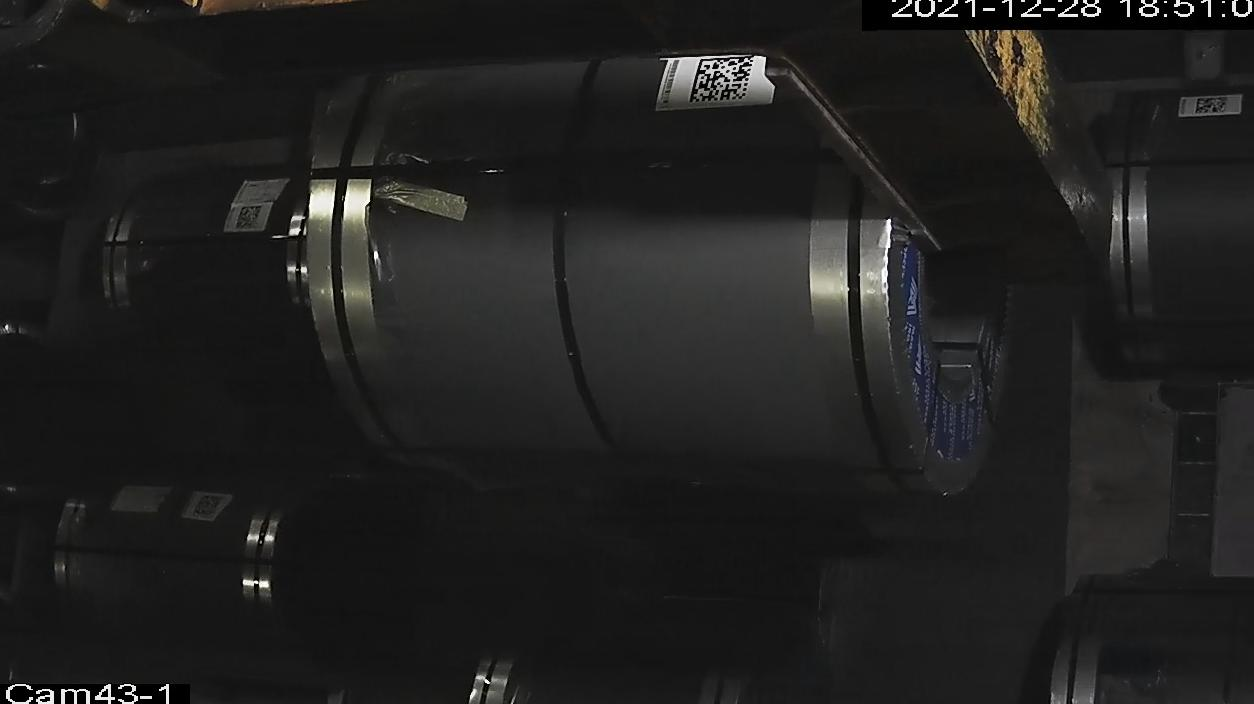data matrix: (688, 52, 758, 109), (234, 204, 266, 232)
